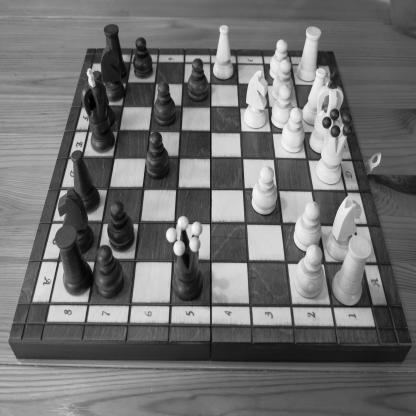black-bishop: (70, 149, 101, 214), (92, 70, 116, 127)
black-king: (80, 68, 116, 153)
black-knight: (57, 188, 95, 254), (100, 45, 126, 102)
black-pawn: (93, 244, 125, 300), (107, 200, 135, 253), (144, 131, 170, 180), (153, 81, 176, 126), (187, 58, 209, 102), (133, 37, 153, 78)
black-queen: (166, 215, 204, 302)
black-rook: (46, 224, 86, 298), (100, 23, 126, 81)
white-bishop: (302, 68, 326, 126), (212, 24, 234, 80)
white-king: (308, 70, 344, 155)
white-knight: (325, 194, 362, 262), (243, 70, 268, 129)
white-pawn: (294, 244, 324, 298), (293, 200, 322, 253), (251, 166, 278, 216), (281, 107, 305, 154), (272, 84, 295, 127), (273, 59, 295, 102), (269, 38, 290, 81)
white-queen: (315, 108, 353, 185)
white-rook: (331, 234, 372, 307), (296, 26, 322, 82)
